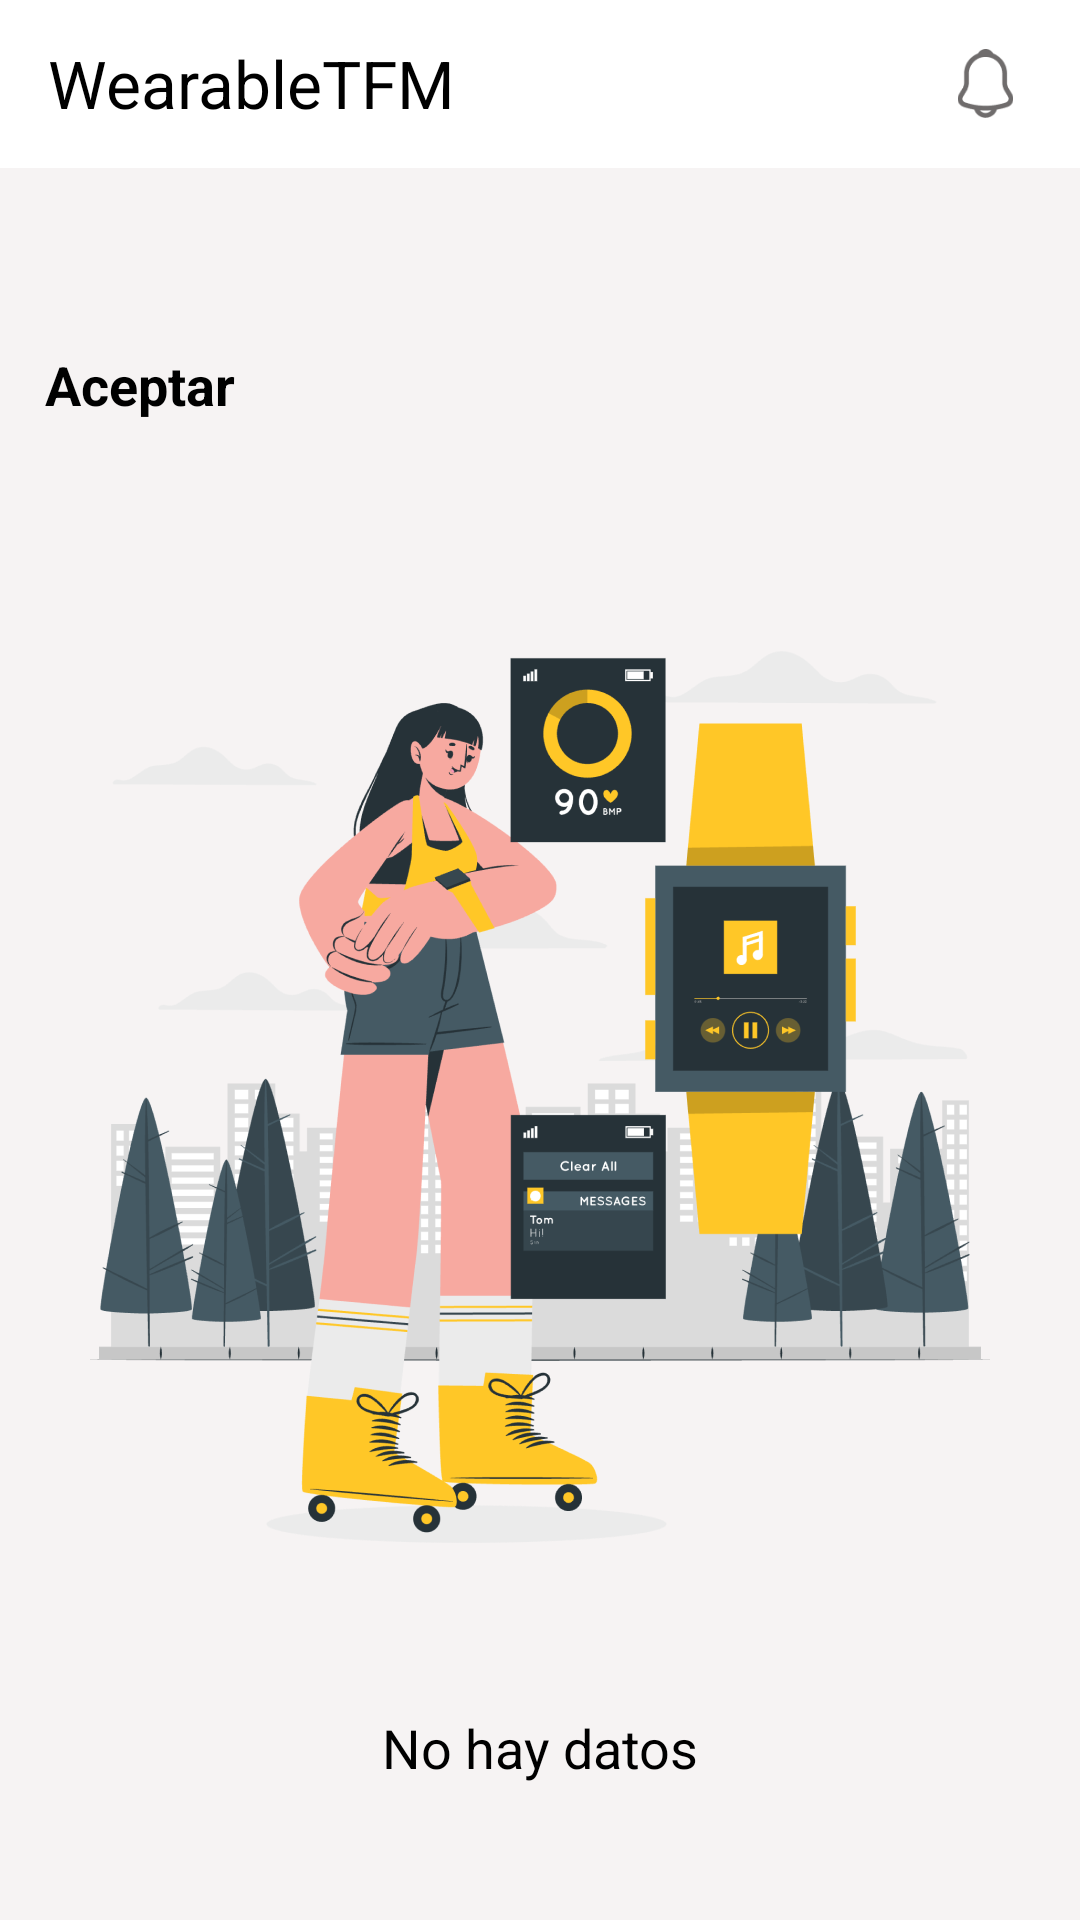

Icons on this 1080px×1920px Android screen, each with the point to tap as (x,y):
notification: (985,83)
